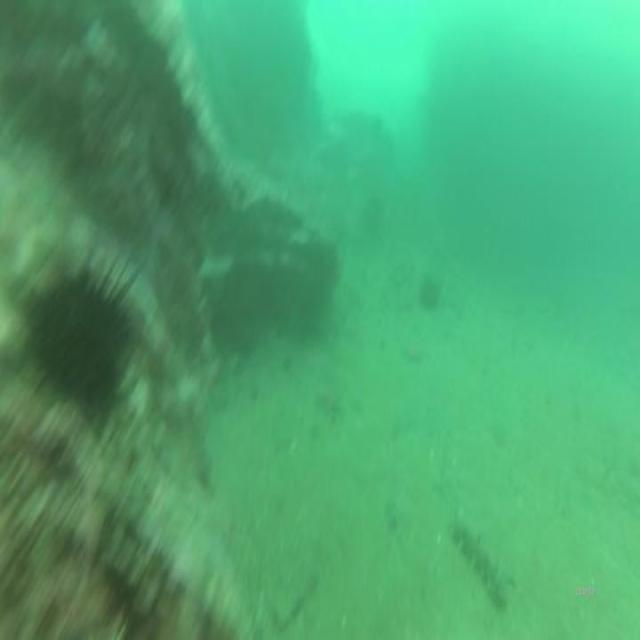echinus: (28, 261, 134, 419)
holothurian: (451, 507, 512, 618)
